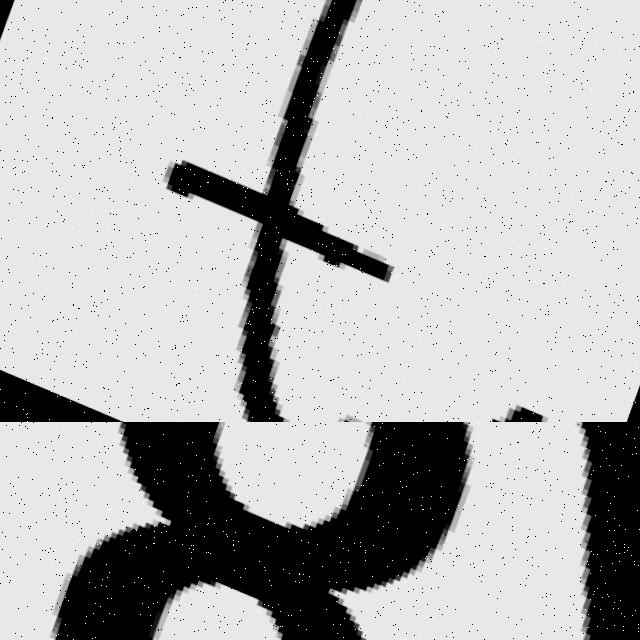8: (0, 422, 492, 640)
D: (492, 0, 640, 422)
F: (165, 0, 396, 422)
L: (492, 422, 640, 640)
